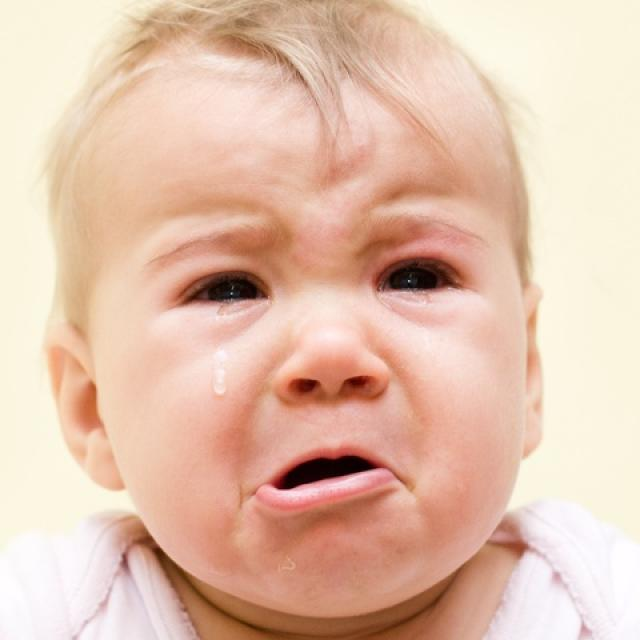Depress: (77, 27, 532, 618)
